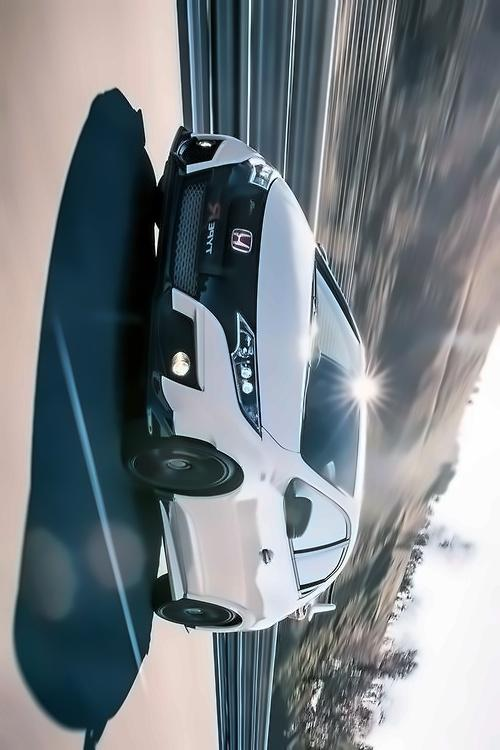Car hood: (256, 166, 311, 460)
Fender - -F-L-: (138, 416, 327, 555)
Front bumper: (120, 110, 200, 454)
Headlight - -L-: (222, 302, 276, 447)
Headlight - -R-: (240, 144, 284, 204)
Passenger-s door - -F-L-: (172, 462, 360, 567)
Side bumper - -L-: (148, 488, 191, 618)
Side mirror - -L-: (276, 470, 318, 551)
